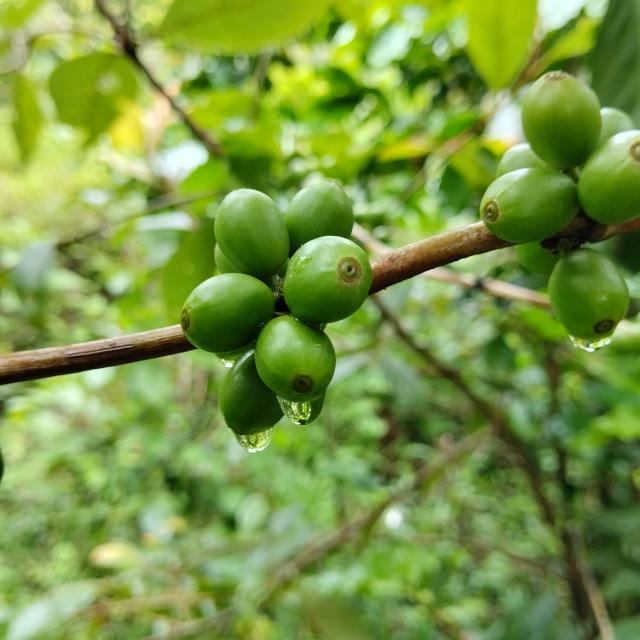green: (282, 235, 372, 325), (523, 70, 603, 169), (549, 248, 631, 342), (481, 167, 581, 243), (180, 273, 275, 353), (180, 273, 275, 353), (254, 315, 336, 402), (214, 188, 290, 280), (579, 129, 640, 224), (218, 350, 284, 435), (284, 180, 354, 256)
